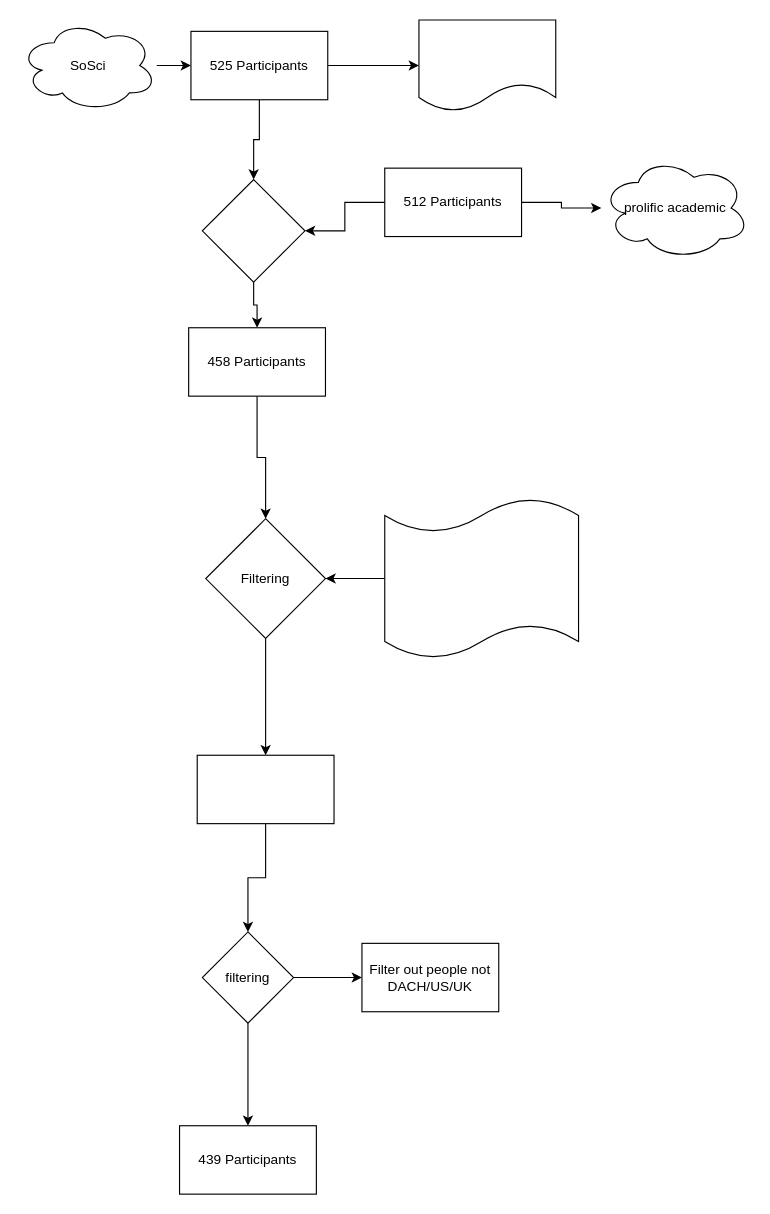
Some shapes in this 770 by 1214 pixel diagram are drawn without their labels. The shapes that lost their labels are listed below. From the top down, each one's box as (x1, y1, x2, y2) in pixels, then its label:
(418, 19, 556, 111): Participated in SoSci -Testing - Wrong answers
(201, 178, 305, 282): Merged only approved
(384, 498, 579, 658): Filtering out our quality check questions CS06 and CS10 and Country == NA
(196, 754, 334, 824): 445 Participants
